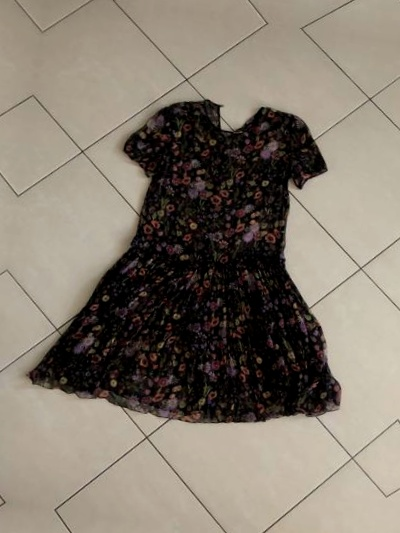Dress: (22, 50, 393, 455), (0, 0, 5, 397)
